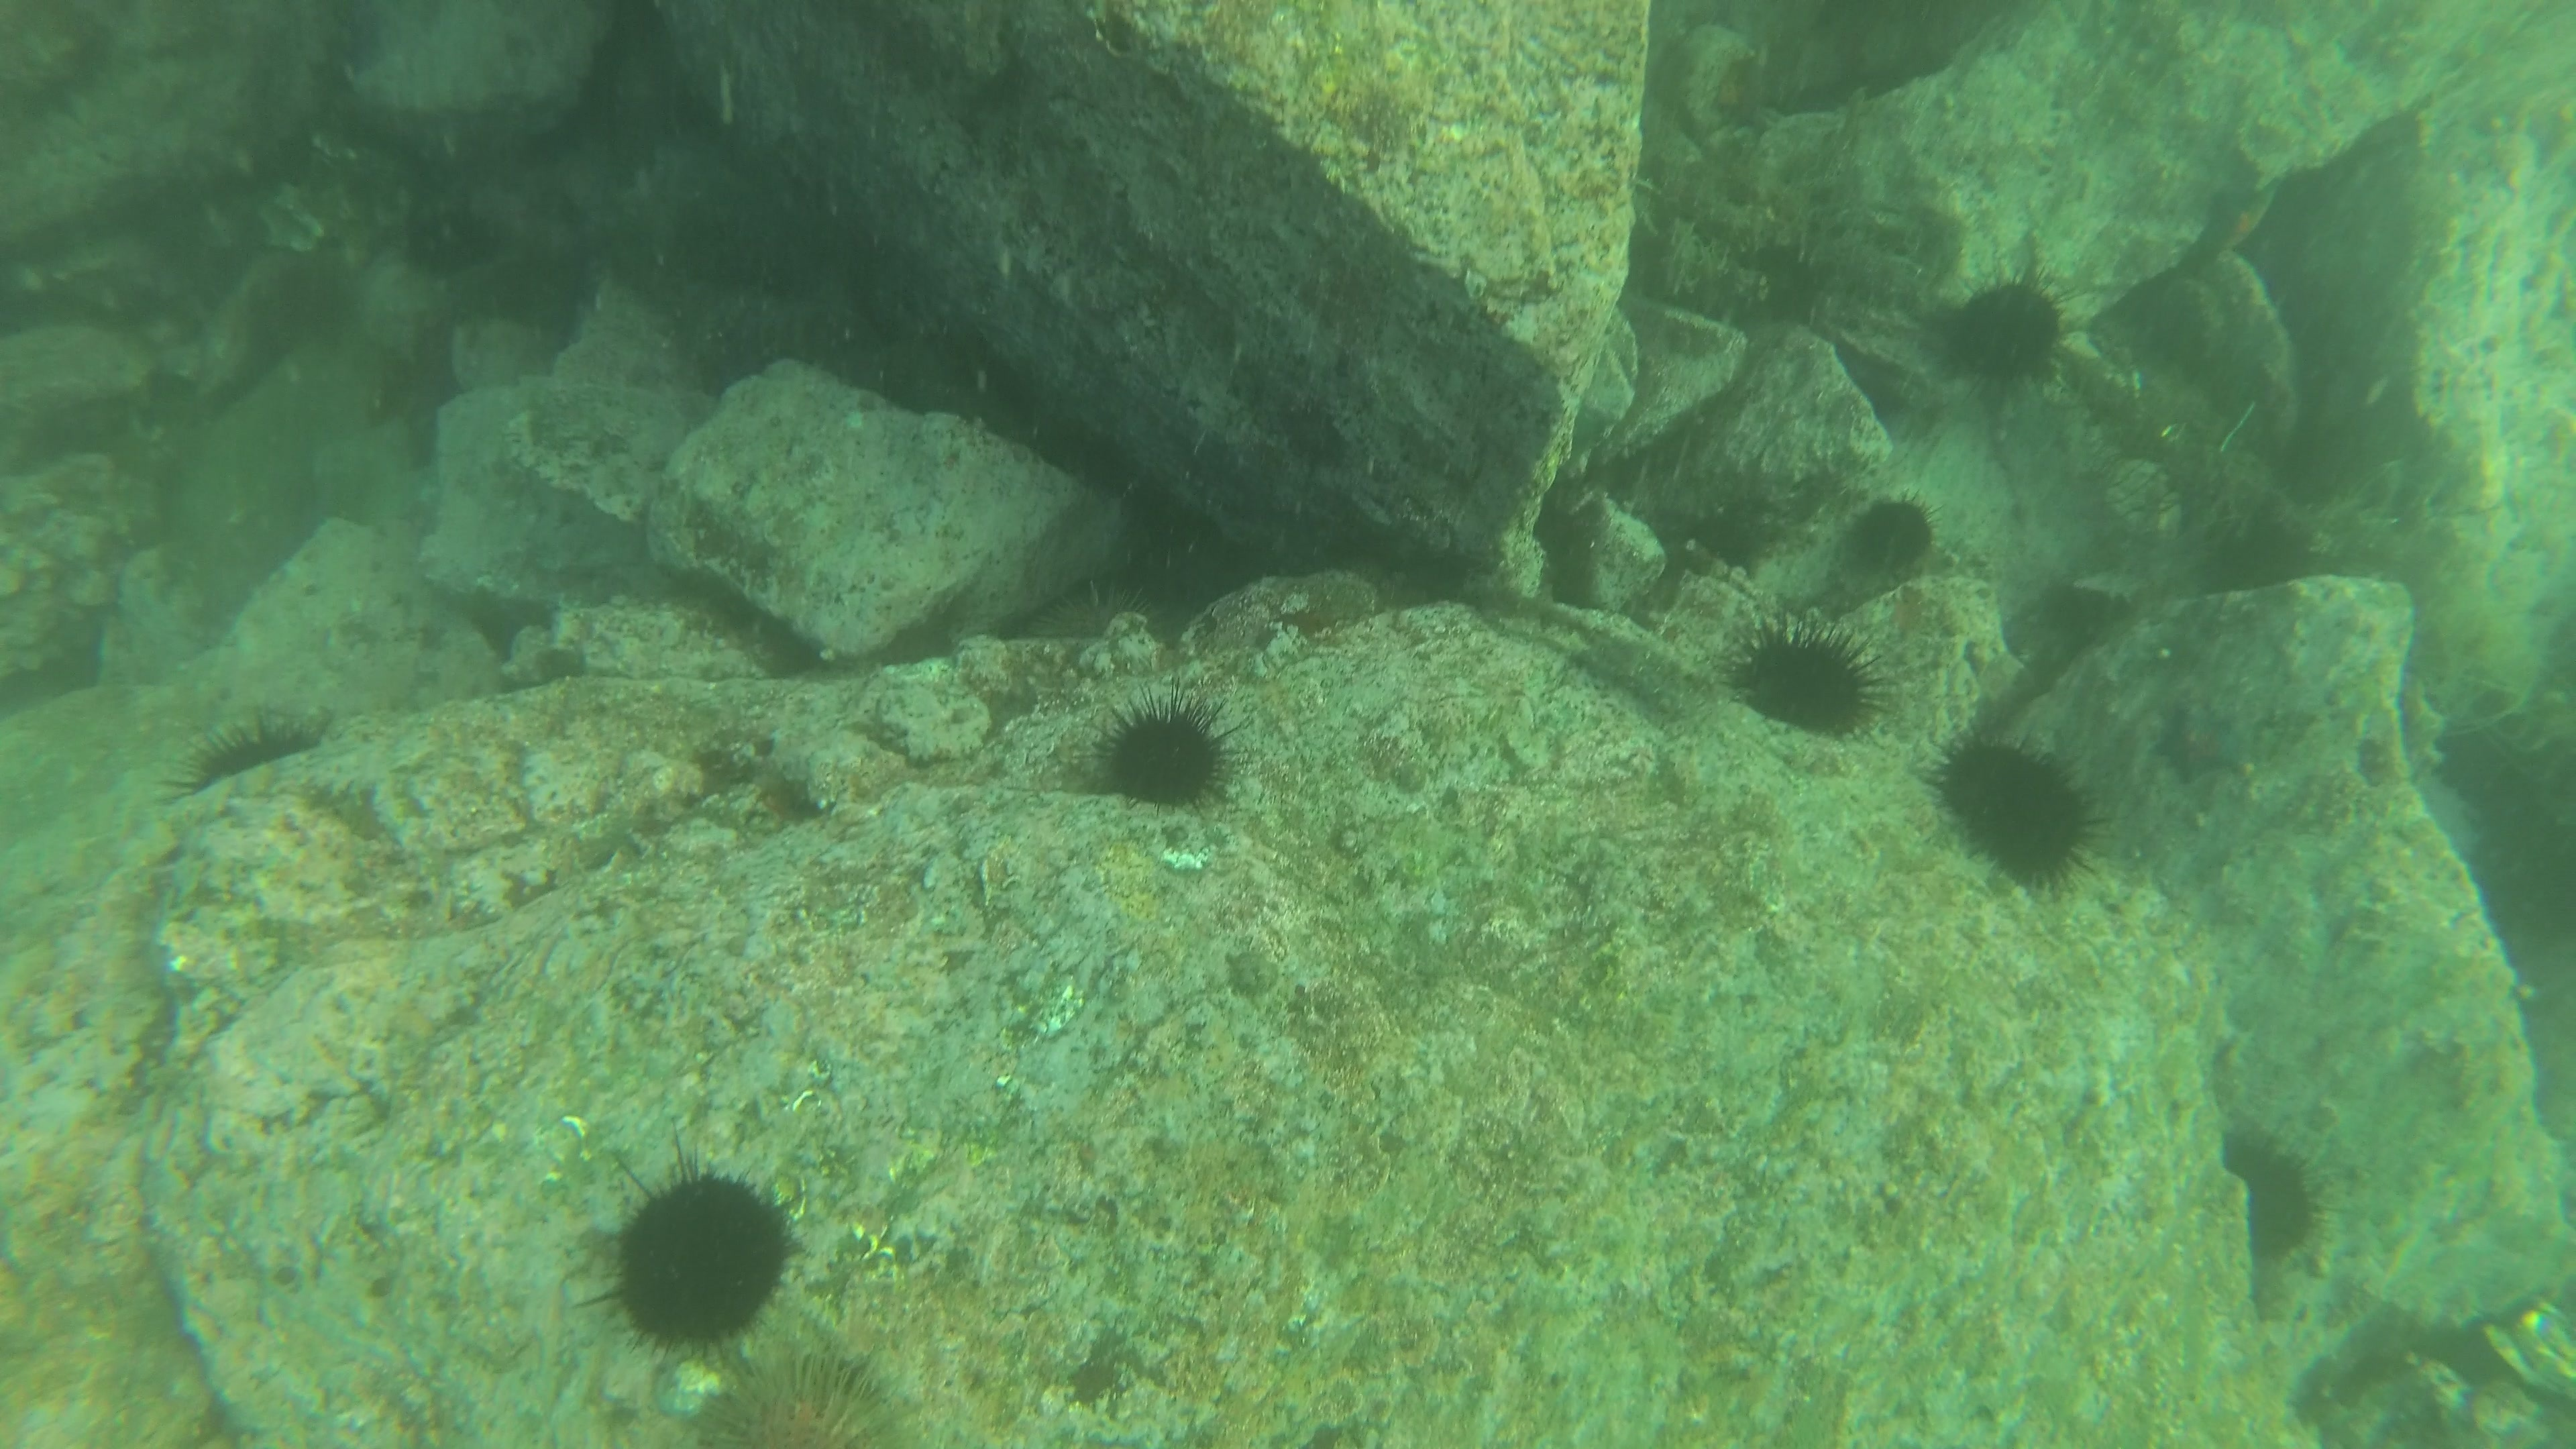echinus: (587, 1152, 803, 1362), (1928, 727, 2105, 892), (683, 1346, 918, 1442), (1723, 614, 1886, 743), (1085, 690, 1240, 817), (1928, 267, 2075, 395), (2213, 1122, 2332, 1272), (170, 704, 333, 807), (1835, 488, 1943, 587), (395, 195, 504, 283), (1033, 580, 1136, 655)
starfish: (2150, 692, 2263, 789), (2187, 182, 2291, 255)
